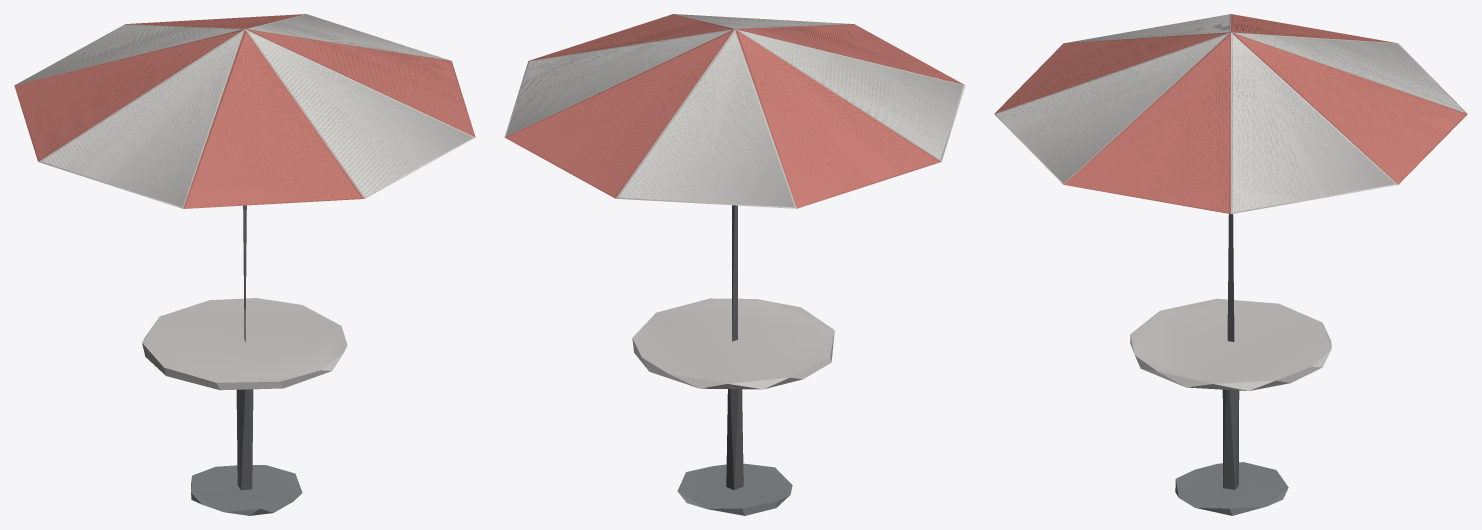
File: furn_parasol_table__red_low.glb
The picture shows the model from 3 angles, left to right: view 1: azimuth 30°, elevation 25°; view 2: azimuth 150°, elevation 25°; view 3: azimuth 270°, elevation 25°; orthographic projection.
Bounding box in the file's own units: 2.1 × 2.25 × 2.1.
